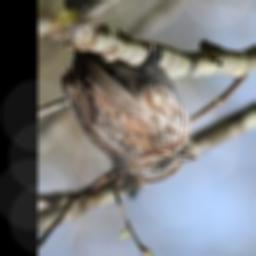Sparrow: (59, 0, 195, 186)
